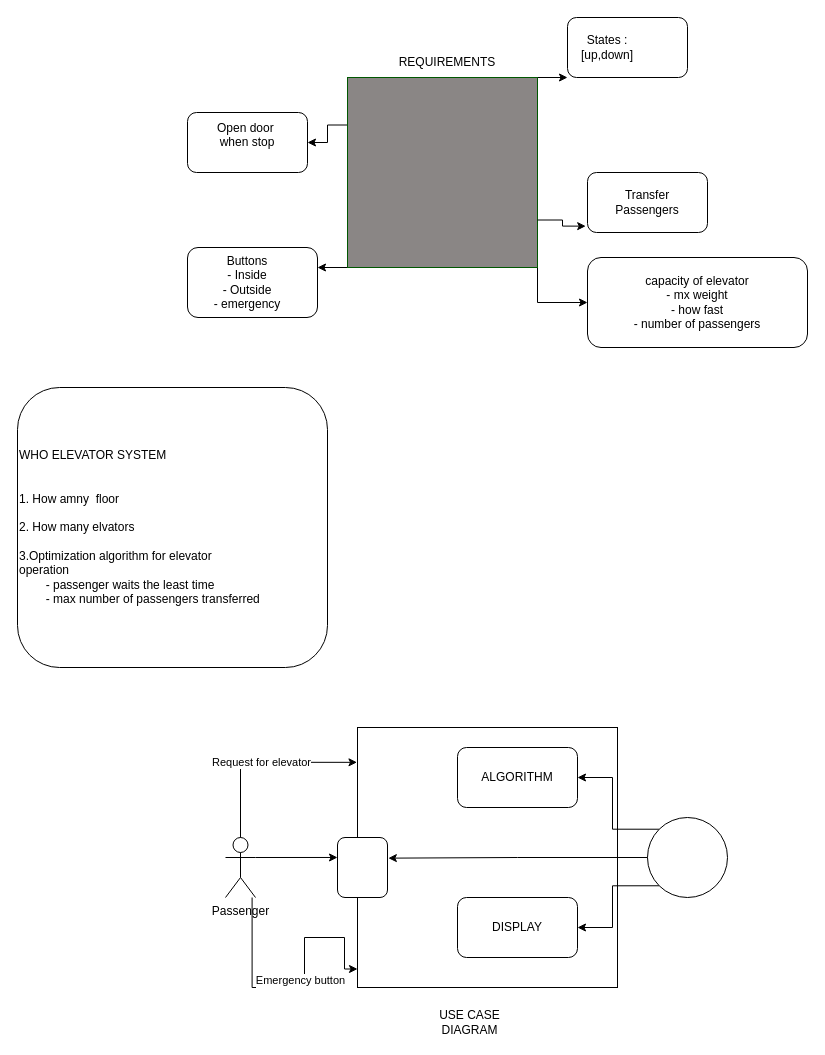
This 825x1055 diagram has some shape labels left out. The centre of each missing label's shape, as x and y in pixels:
"DOOR" goes at point 362,867.
"ELEVATOR" goes at point 442,172.
"System" goes at point 687,857.
